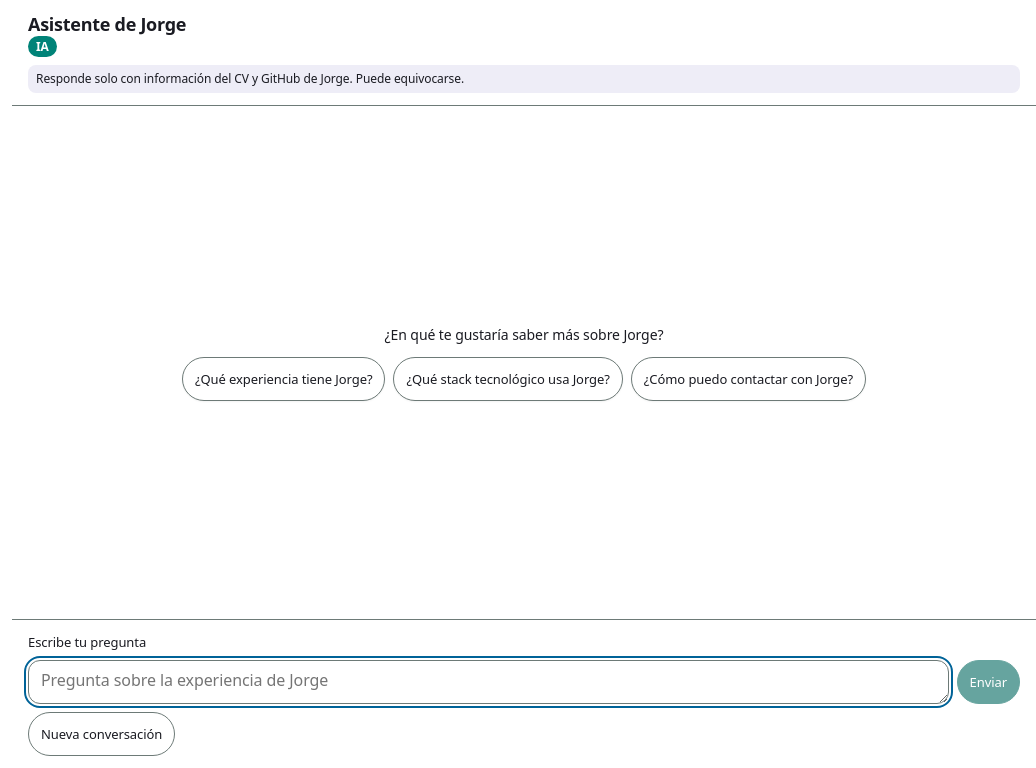
RF-F42 — la variante de error de la región de estado › announces the same text it announced before the variant existed
Type "¿Qué usa Jorge?" into the text box labelled "Escribe tu pregunta". click: (488, 682)
box: [28,660,949,704]
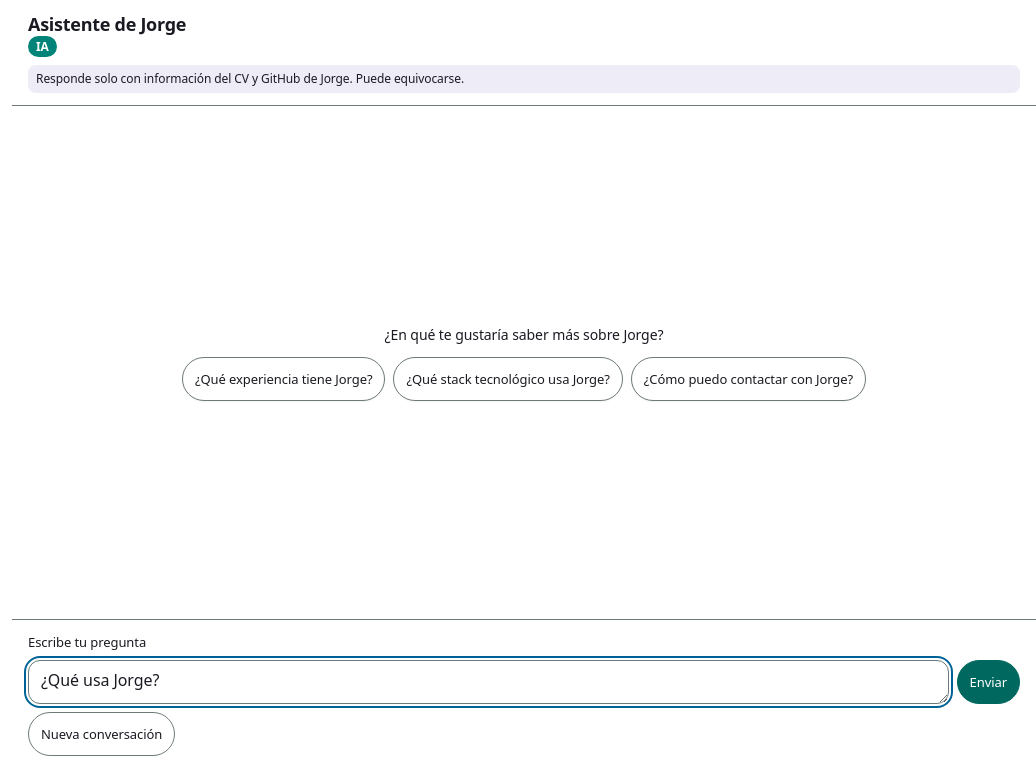
Click the button with aria-label "Enviar pregunta". click: click(988, 682)
box: [957,660,1020,704]
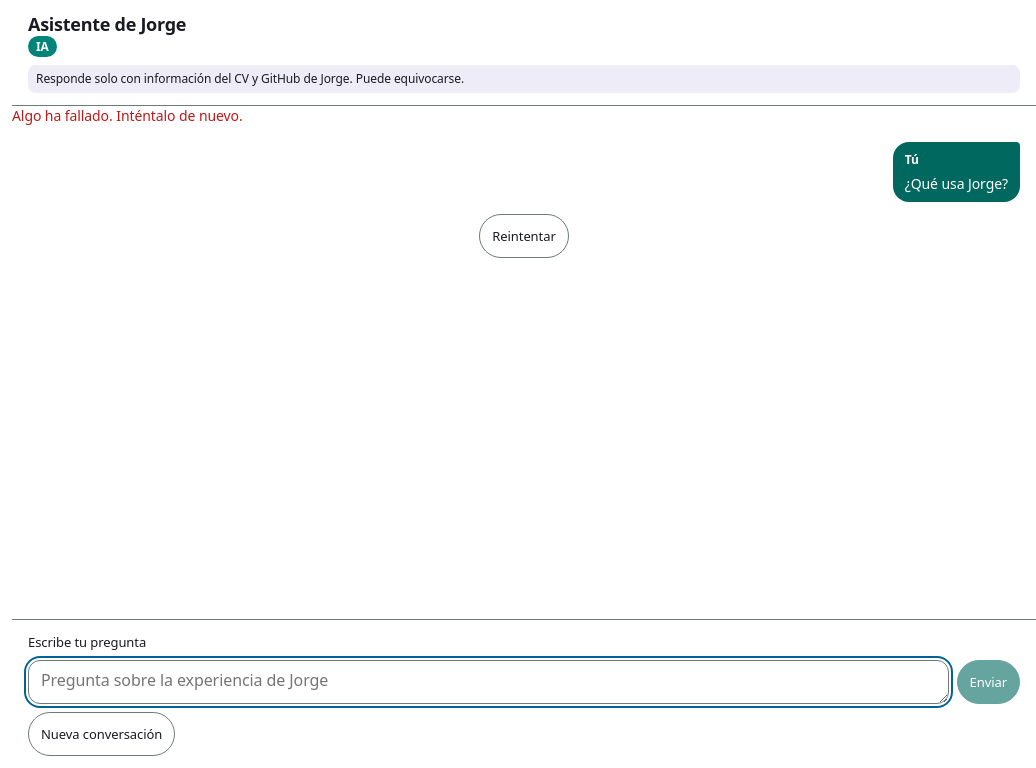
Now the message with class "chatbox__status" reads "Algo ha fallado. Inténtalo de nuevo.", box [12,106,243,125]
